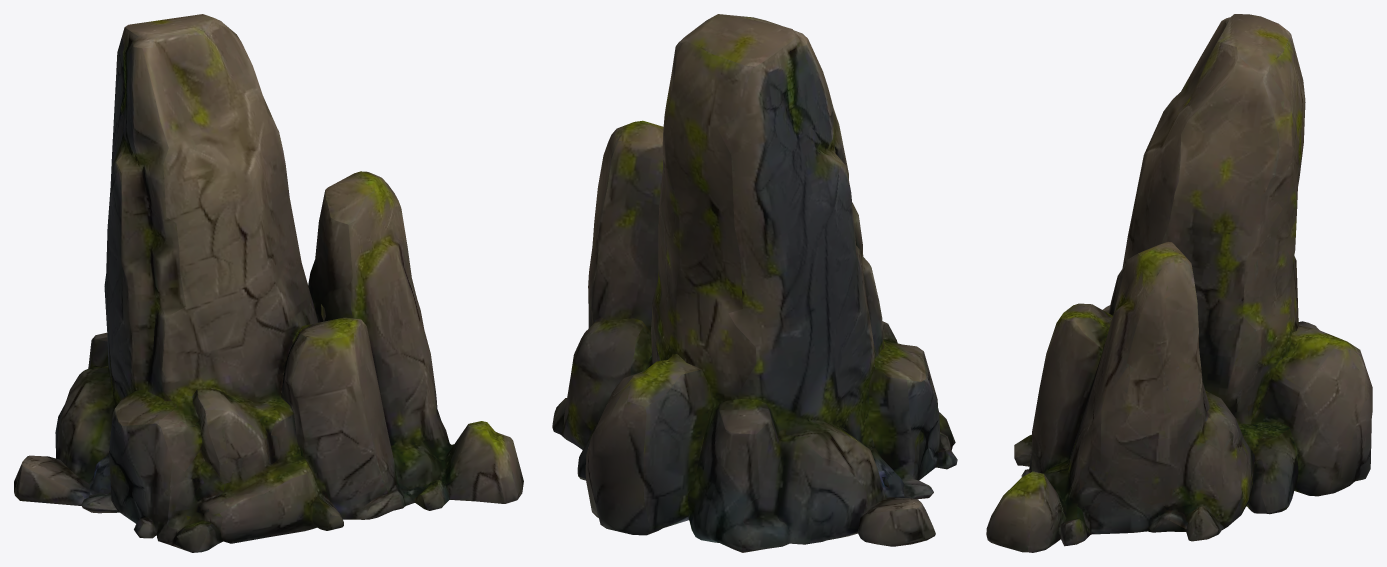
The model's file is Rock01.glb.
3 renders of one model, left to right at view 1: azimuth 30°, elevation 25°; view 2: azimuth 150°, elevation 25°; view 3: azimuth 270°, elevation 25°, orthographic. The views are drawn at different scales.
Visible parts, largest first — view 1: textured_mesh.obj; view 2: textured_mesh.obj; view 3: textured_mesh.obj.
Boxes of the visible parts, left/top/right/bottom form: textured_mesh.obj: left=14, top=14, right=523, bottom=552; textured_mesh.obj: left=552, top=14, right=957, bottom=552; textured_mesh.obj: left=986, top=14, right=1372, bottom=552.
Size of the model in its own units: 1.87 by 1.98 by 1.64.
Materials: 1 (1 with a texture image).
